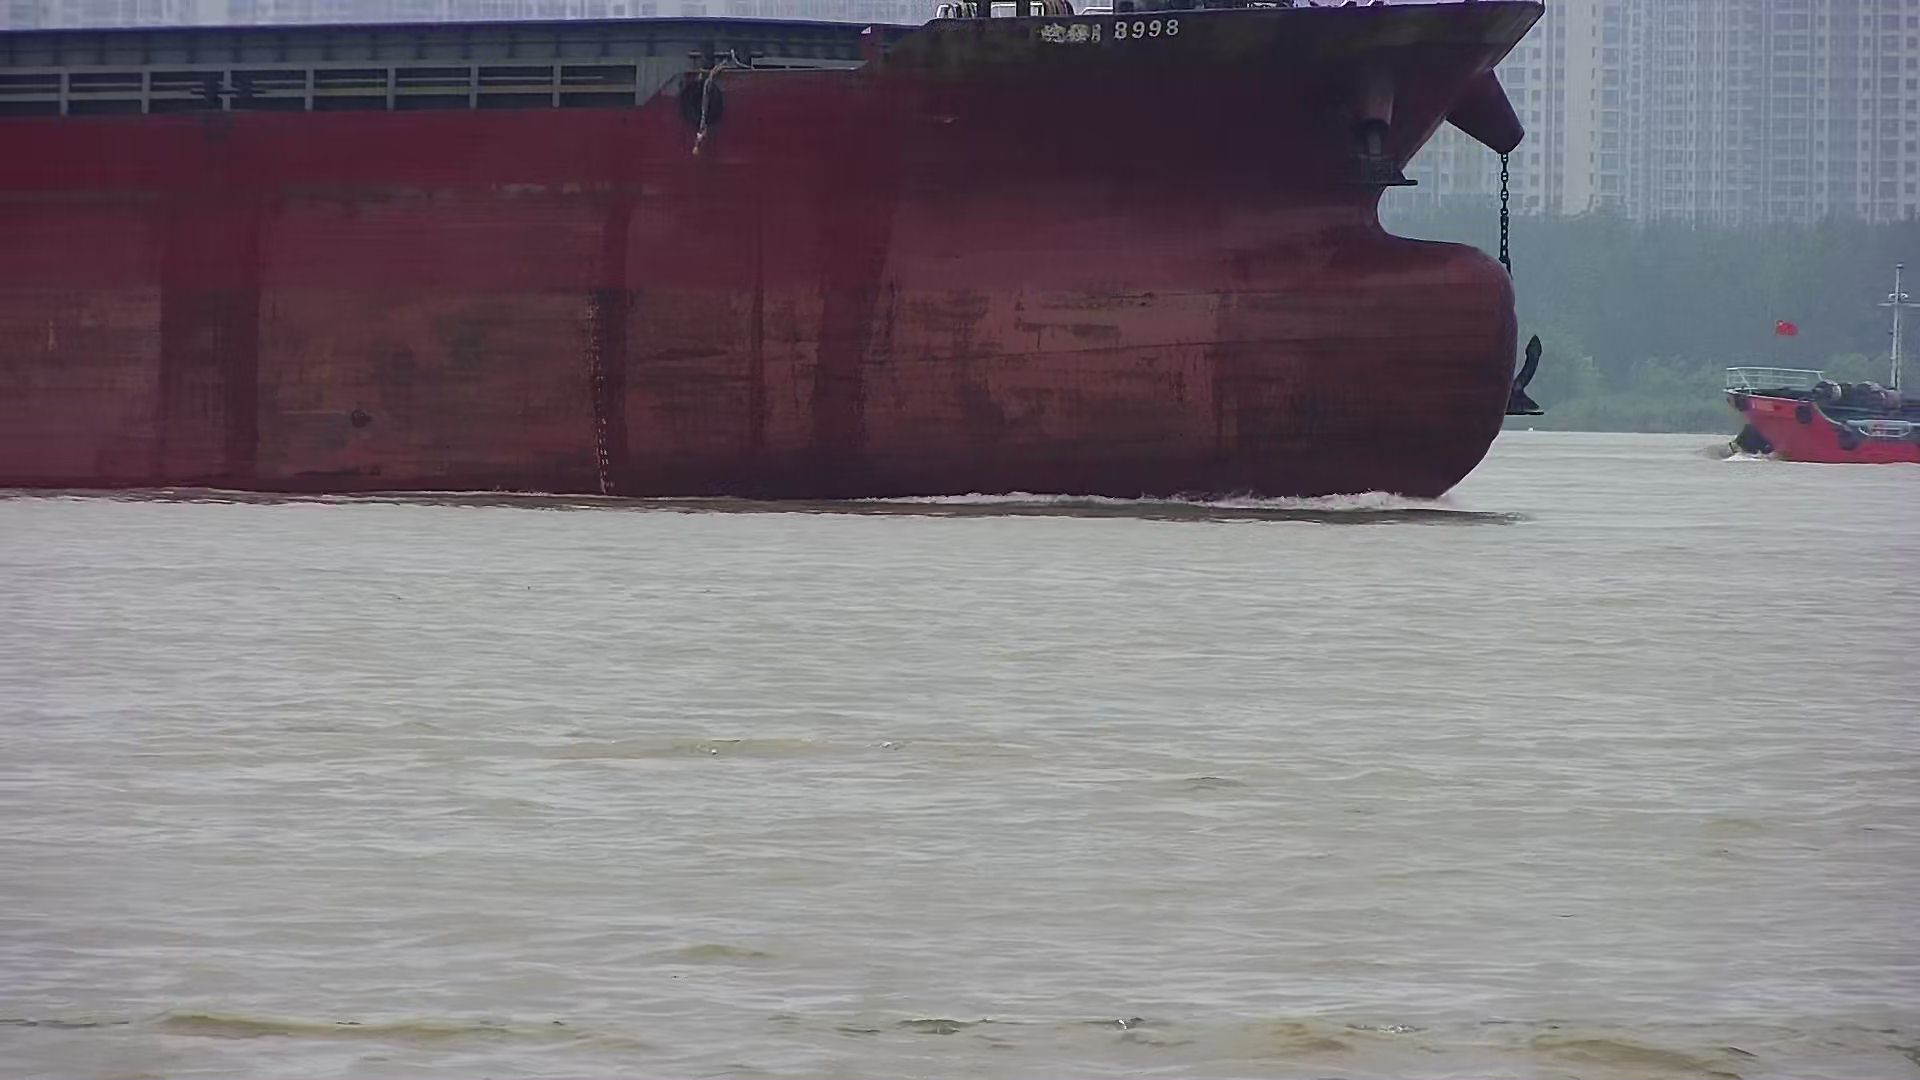ship: (3, 1, 1540, 541), (1718, 261, 1920, 471)
